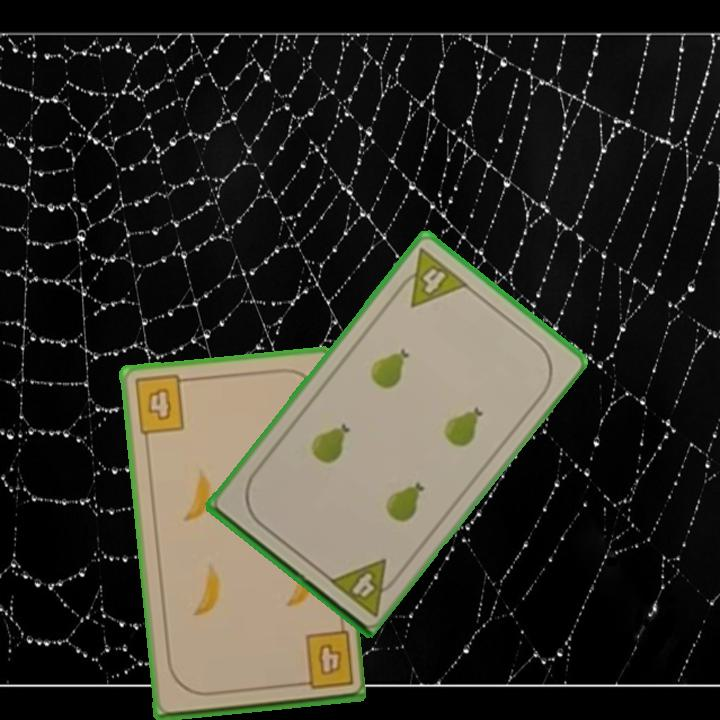4b: (291, 628, 356, 693), (130, 372, 193, 437)
4p: (390, 244, 471, 310), (324, 554, 404, 619)
